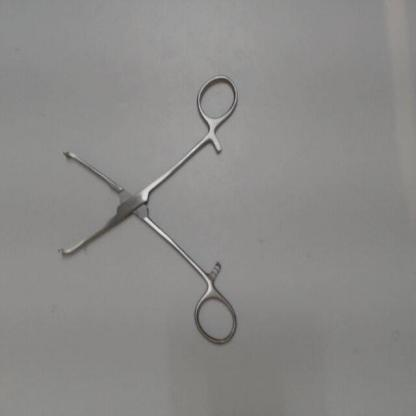Allis Tissue Forceps: (54, 64, 244, 355)
